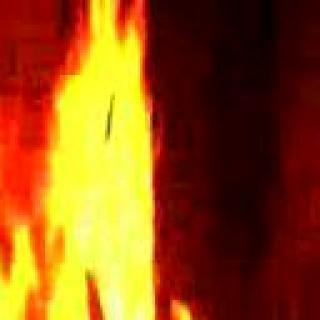fire: (0, 52, 211, 320)
